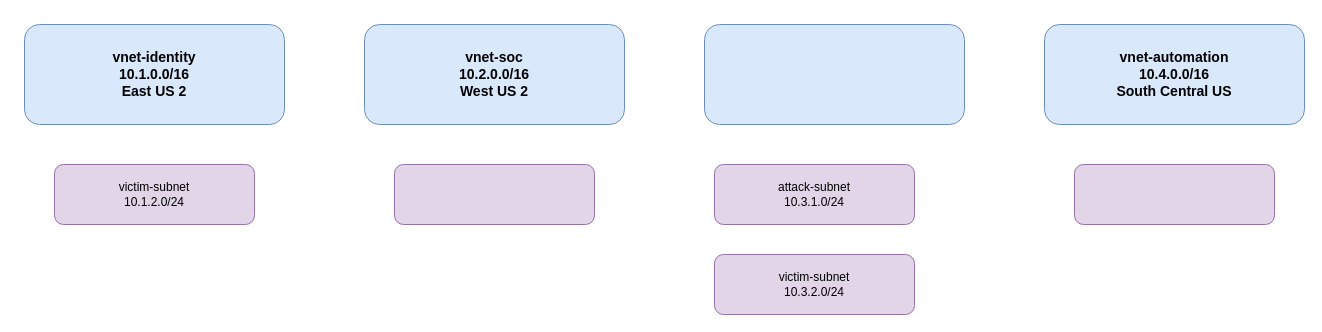
This 1322x332 diagram has some shape labels left out. Here are the shapes that lost their labels. From the top down, the centre of each, then its label:
At point (834, 74): "vnet-attack 10.3.0.0/16 Central US".
At point (494, 194): "siem-subnet 10.2.3.0/24".
At point (1174, 194): "automation-subnet 10.4.3.0/24".
